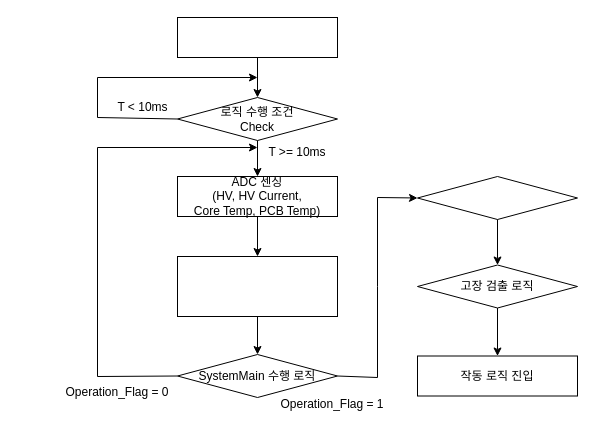
Some shapes in this 595 by 437 pixel diagram are drawn without their labels. The shapes that lost their labels are listed below. From the top down, each one's centre as x and y in pixels, then its label:
the point at 257,37: 기본 로직 진입
the point at 497,198: Pre Check 로직
the point at 257,286: Fault Check (LV, HV, HV Current, Core Temp, PCB Temp, InterLock)
